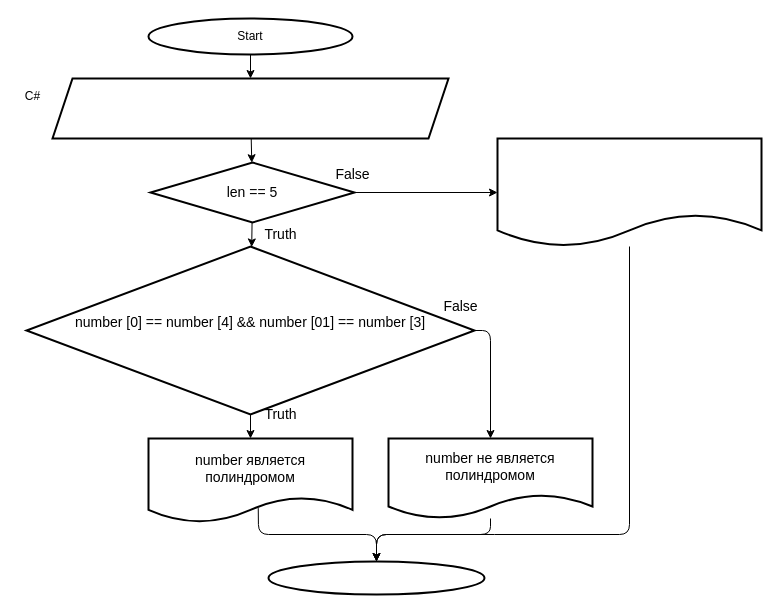
Image size: 779x612. Some labels were removed from this diagram. The shapes that lost their labels are listed below. From the top down, each one's centre as x and y in pixels, then its label:
At (x=250, y=108): "Введите пятизначное число number; Len".
At (x=629, y=192): "ОШИБКА: number - не является пятизначным значением, повторите попытку занова".
At (x=376, y=577): "End".
